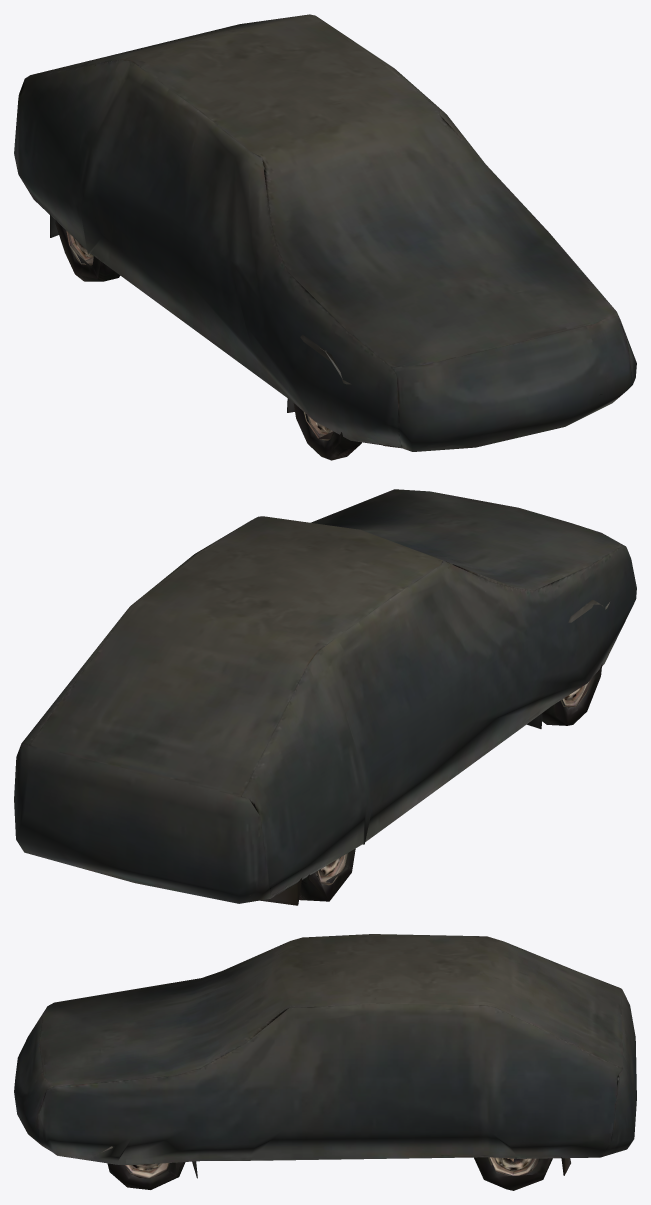
Rendered from covered_car_lod1.glb.
3 renders of one model, top to bottom at view 1: azimuth 30°, elevation 25°; view 2: azimuth 150°, elevation 25°; view 3: azimuth 270°, elevation 25°, orthographic. The views are drawn at different scales.
Visible parts, largest first — view 1: covered_car_wheel_01; view 2: covered_car_wheel_01; view 3: covered_car_wheel_01.
Part boxes in pixels (box(x1,y1,x2,y2)): covered_car_wheel_01: box(14, 14, 636, 460); covered_car_wheel_01: box(14, 489, 636, 905); covered_car_wheel_01: box(14, 934, 636, 1190).
Bounding box in the file's own units: 1.79 × 1.41 × 4.38.
1 material, 1 textured.
